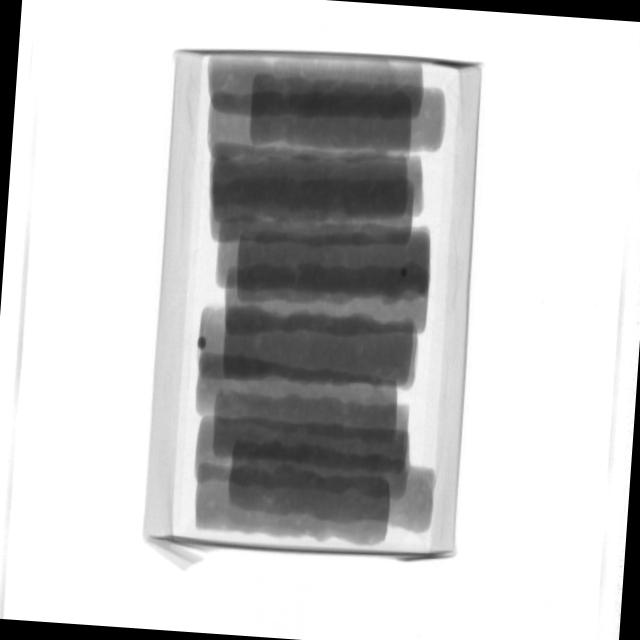ym: (199, 336, 208, 349), (400, 268, 408, 278)
